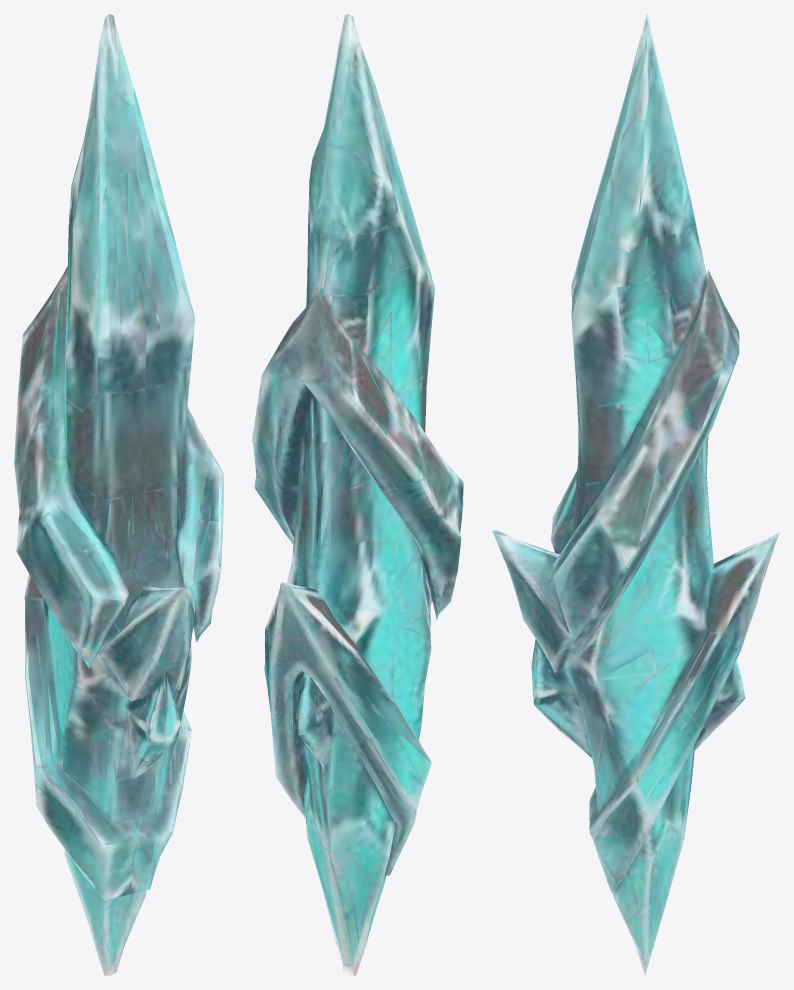
File: proj_crystal.glb
The picture shows the model from 3 angles, left to right: view 1: azimuth 30°, elevation 25°; view 2: azimuth 150°, elevation 25°; view 3: azimuth 270°, elevation 25°; orthographic projection.
Visible parts, largest first — view 1: proj_crystal; view 2: proj_crystal; view 3: proj_crystal.
Boxes of the visible parts, x1,y1,x2,y2 form: proj_crystal: [14, 14, 223, 975]; proj_crystal: [252, 14, 463, 975]; proj_crystal: [492, 14, 779, 975].
Bounding box in the file's own units: 0.2252 × 1 × 0.2709.
1 material, 1 textured.
